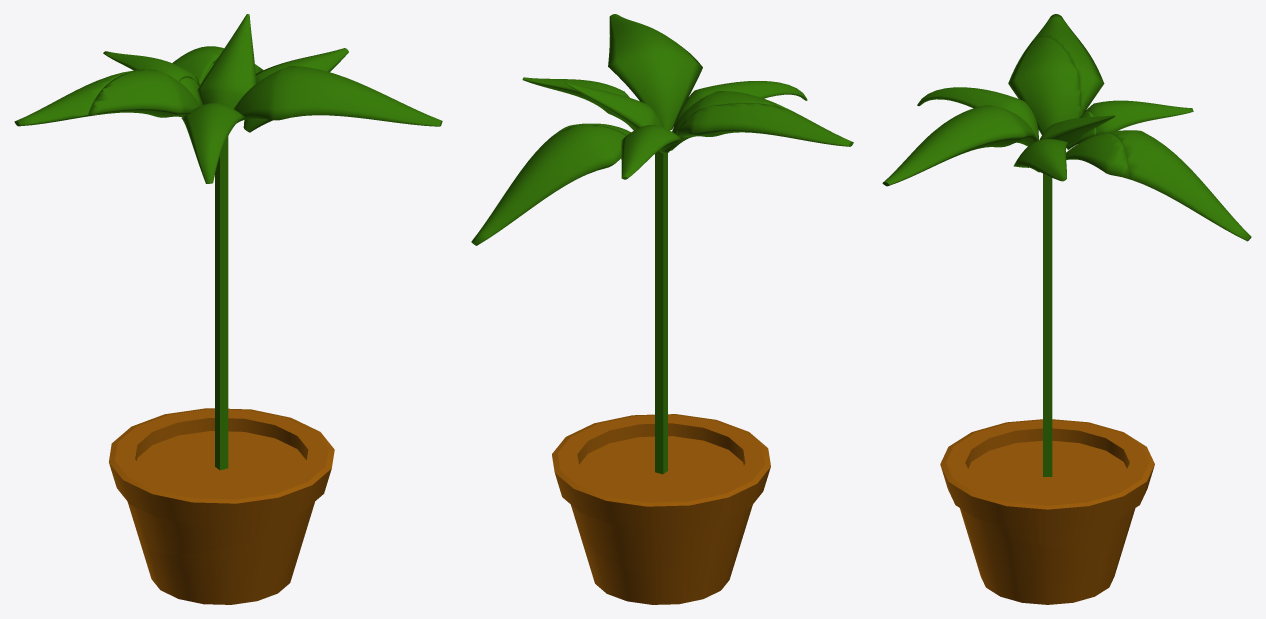
The model's file is long plant 2.fbx.
3 views of the same model, side by side, from view 1: azimuth 30°, elevation 25°; view 2: azimuth 150°, elevation 25°; view 3: azimuth 270°, elevation 25° (orthographic). The views are drawn at different scales.
Visible parts, largest first — view 1: Cube.056, BezierCurve.013, Cylinder.009, BezierCurve.009, BezierCurve.012, BezierCurve.002; view 2: Cube.056, BezierCurve.013, BezierCurve.002, Cylinder.009, BezierCurve.009, BezierCurve.012; view 3: Cube.056, BezierCurve.013, Cylinder.009, BezierCurve.002, BezierCurve.009, BezierCurve.012.
Part boxes in pixels (x1=…): Cube.056: x1=109, y1=323, x2=334, y2=554; BezierCurve.013: x1=88, y1=14, x2=442, y2=329; Cylinder.009: x1=140, y1=505, x2=313, y2=604; BezierCurve.009: x1=14, y1=70, x2=137, y2=126; BezierCurve.012: x1=103, y1=51, x2=199, y2=85; BezierCurve.002: x1=172, y1=46, x2=223, y2=84; Cube.056: x1=552, y1=333, x2=770, y2=575; BezierCurve.013: x1=522, y1=14, x2=807, y2=334; BezierCurve.002: x1=471, y1=124, x2=626, y2=245; Cylinder.009: x1=580, y1=533, x2=743, y2=604; BezierCurve.009: x1=675, y1=103, x2=853, y2=146; BezierCurve.012: x1=621, y1=125, x2=680, y2=179; Cube.056: x1=940, y1=341, x2=1154, y2=551; BezierCurve.013: x1=882, y1=36, x2=1129, y2=343; Cylinder.009: x1=960, y1=508, x2=1125, y2=604; BezierCurve.002: x1=1106, y1=130, x2=1251, y2=241; BezierCurve.009: x1=1033, y1=14, x2=1104, y2=116; BezierCurve.012: x1=1084, y1=100, x2=1193, y2=135.
Size of the model in its own units: 361 by 531 by 363.
